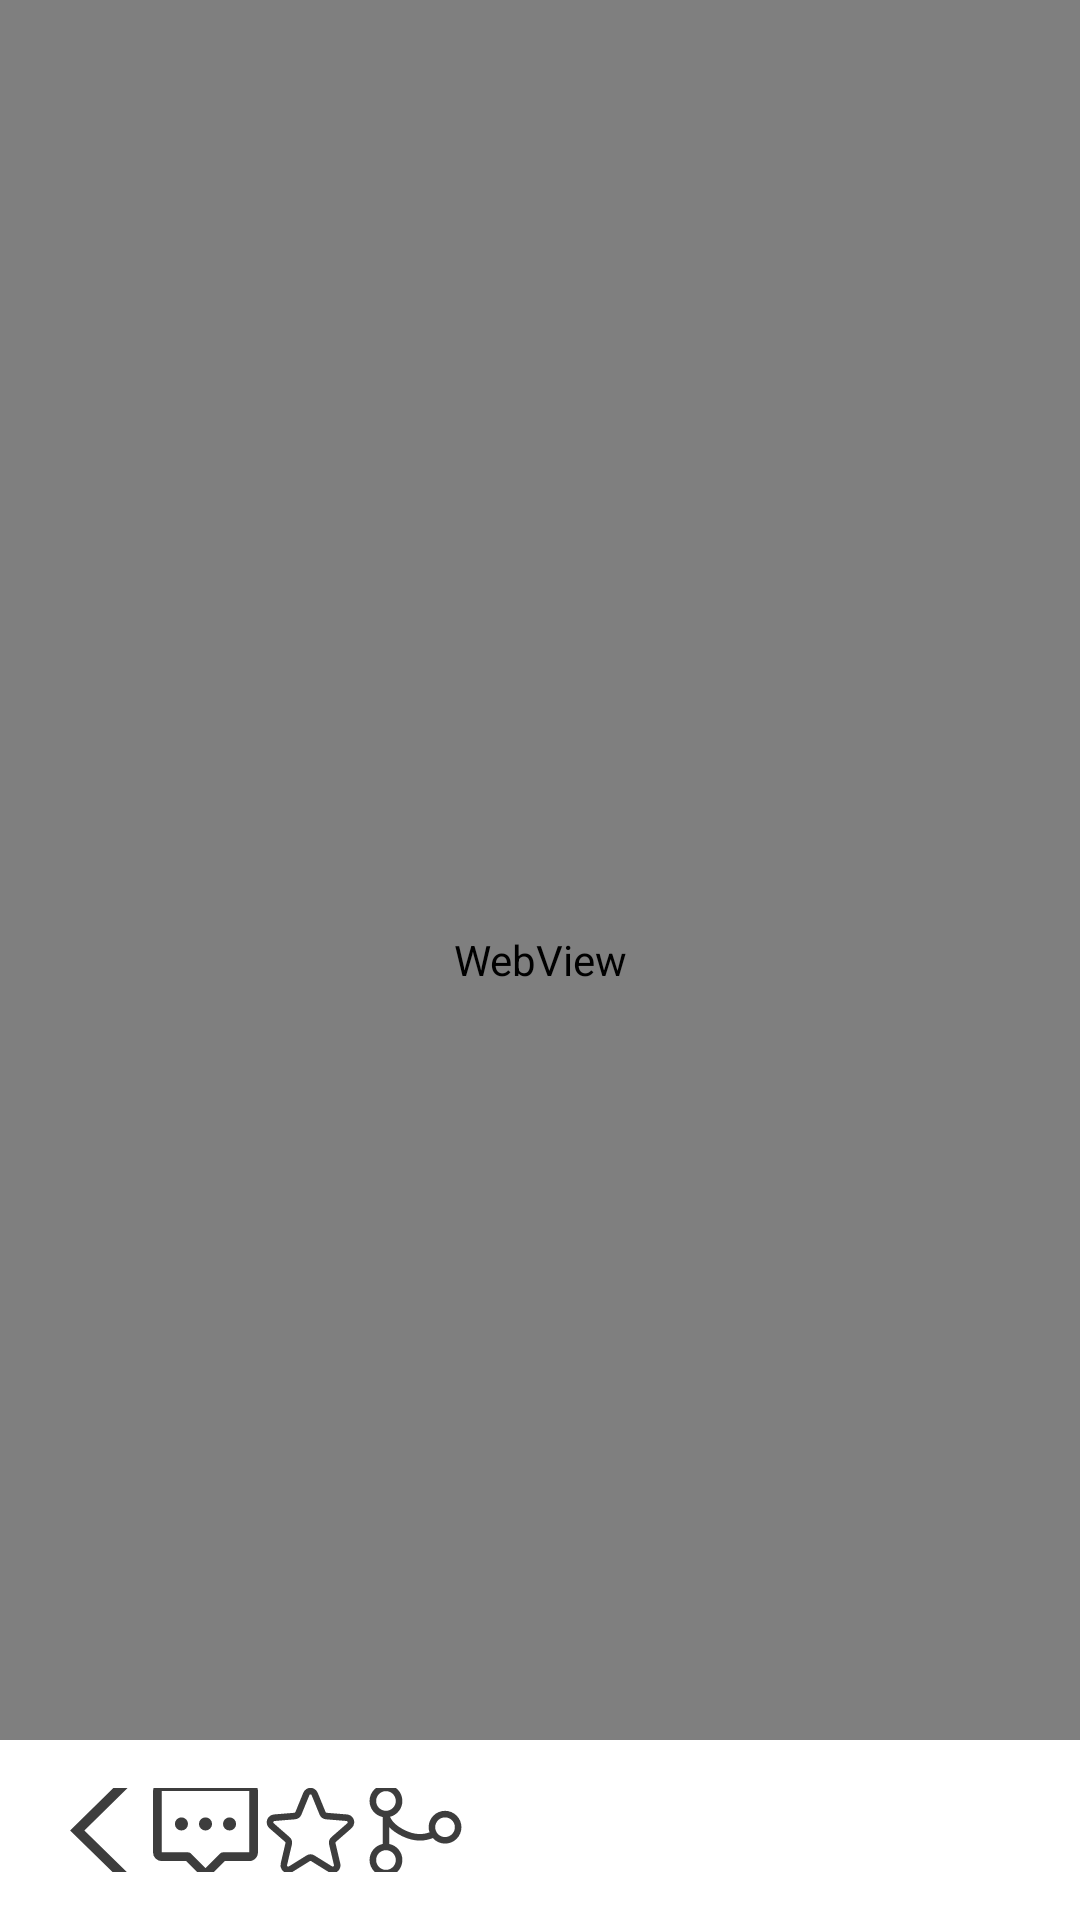

Named icons in this screenshot (1080 x 1920) and their bounding boxes, {"x1": x1, "y1": y1, "x2": x2, "y2": y2}:
收藏: {"x1": 266, "y1": 1788, "x2": 355, "y2": 1872}
评论: {"x1": 153, "y1": 1788, "x2": 258, "y2": 1872}
返回: {"x1": 70, "y1": 1788, "x2": 128, "y2": 1872}
